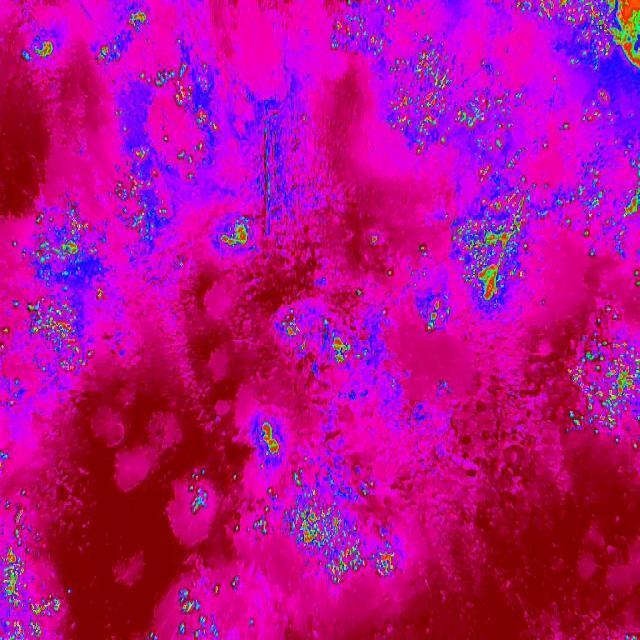fire: (224, 465, 410, 585), (382, 38, 518, 182), (0, 212, 95, 371), (134, 46, 218, 180), (565, 305, 640, 449), (452, 188, 536, 300), (509, 0, 639, 70), (150, 570, 253, 640), (110, 132, 174, 242), (0, 483, 41, 639), (540, 76, 618, 152), (561, 188, 640, 258), (331, 0, 394, 54), (212, 211, 256, 257), (28, 594, 62, 640), (254, 417, 287, 461), (186, 468, 212, 516), (426, 287, 452, 334), (282, 307, 308, 353), (25, 32, 57, 66), (330, 336, 350, 366), (92, 42, 115, 66), (128, 8, 148, 32)
